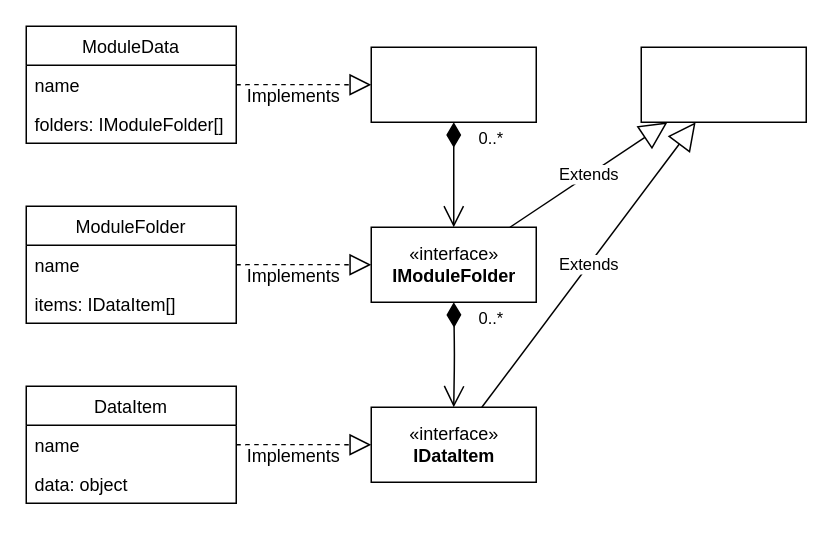
Image size: 833x534. Some labels were removed from this diagram. The shapes that lost their labels are listed below. From the top down, each one's centre as x and y in pixels, then its label:
At point (453, 84): "«interface» IModuleData".
At point (723, 84): "«interface» IModuleltem".
